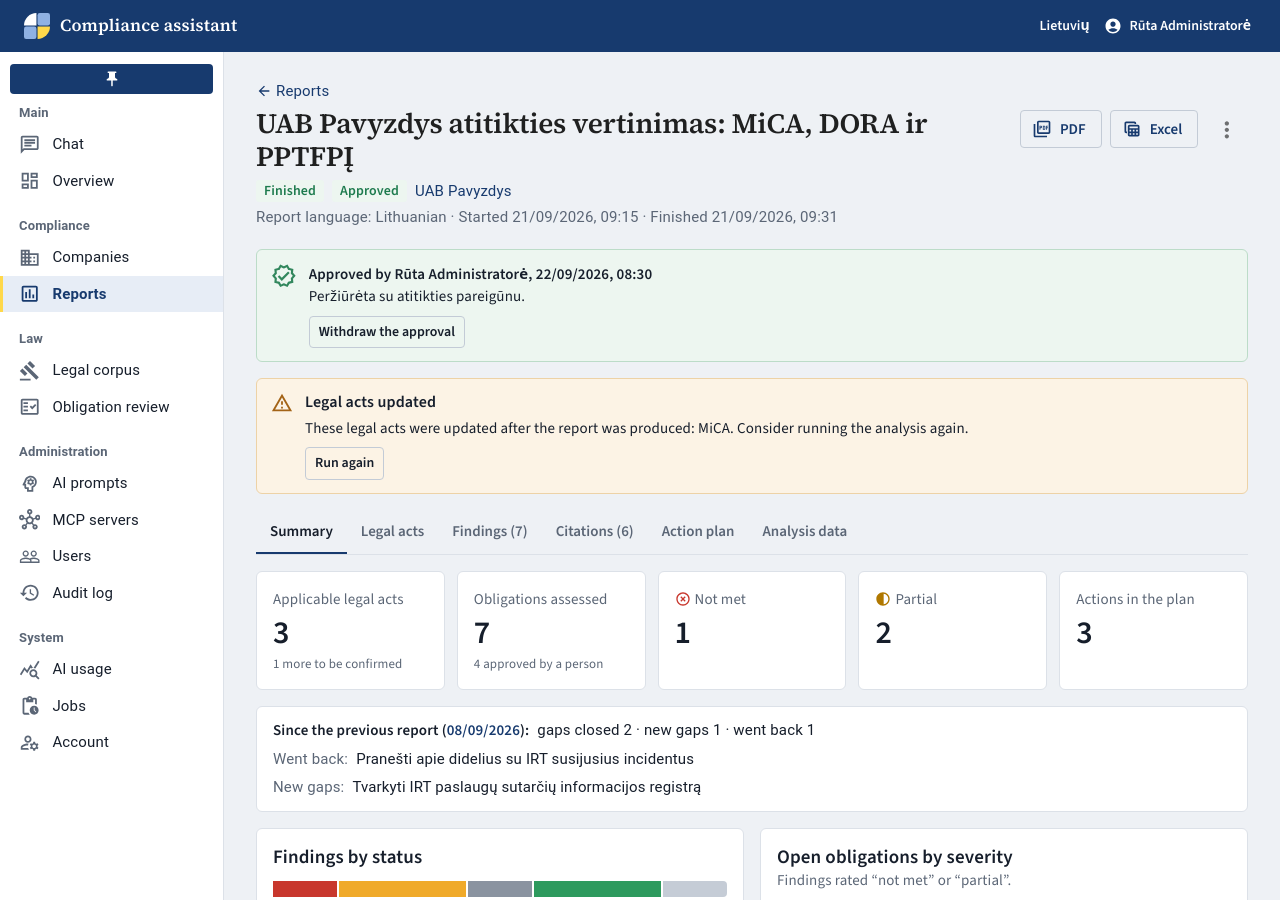
Test case: ReportApproval — an approved report › Cancel keeps the approval and sends nothing
Check: the 1st message is shown, box [256,249,1248,362]
Click the button "Withdraw the approval" at (387,332), box [309,316,465,348]
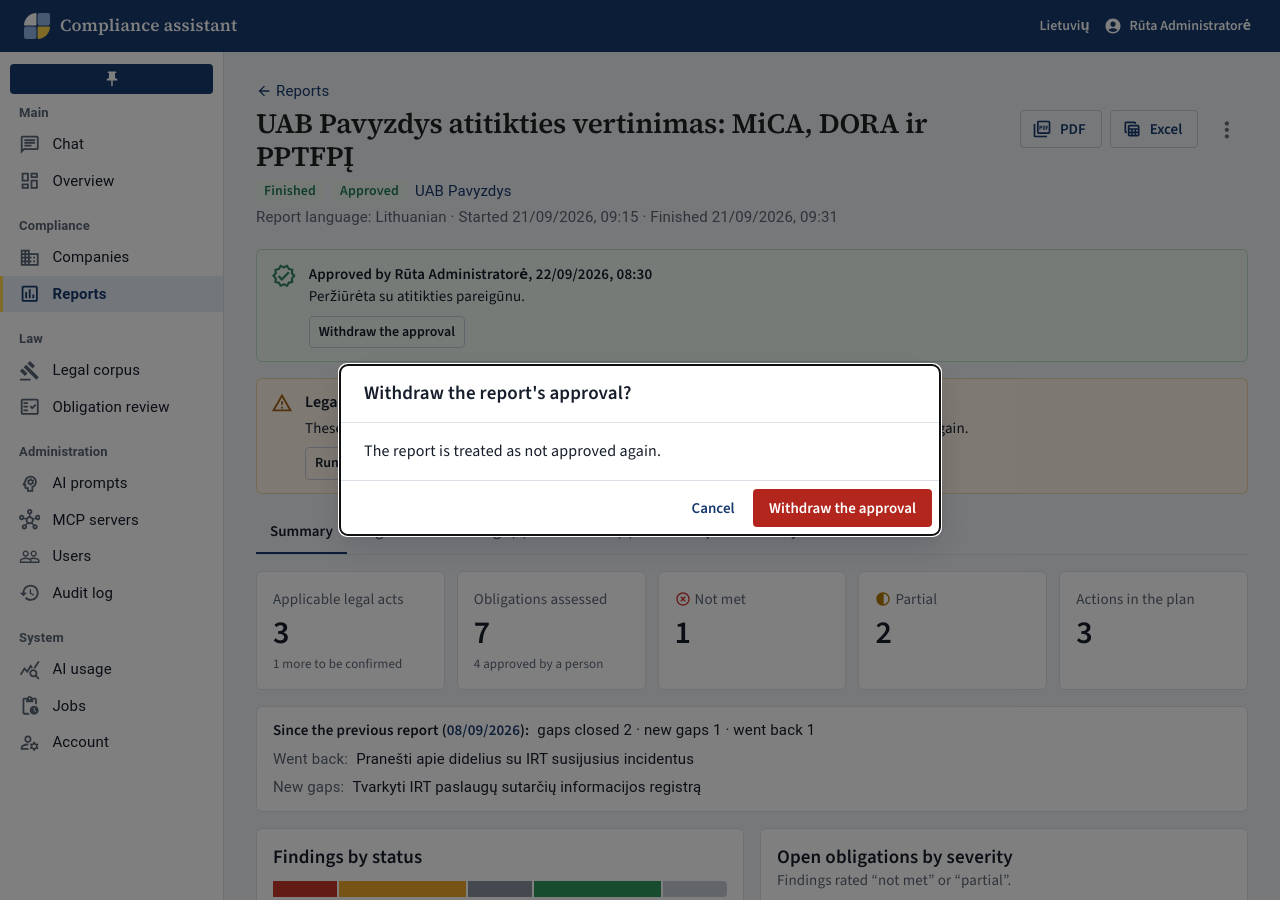
Click the button "Cancel" at (713,508), box [681,489,745,527]
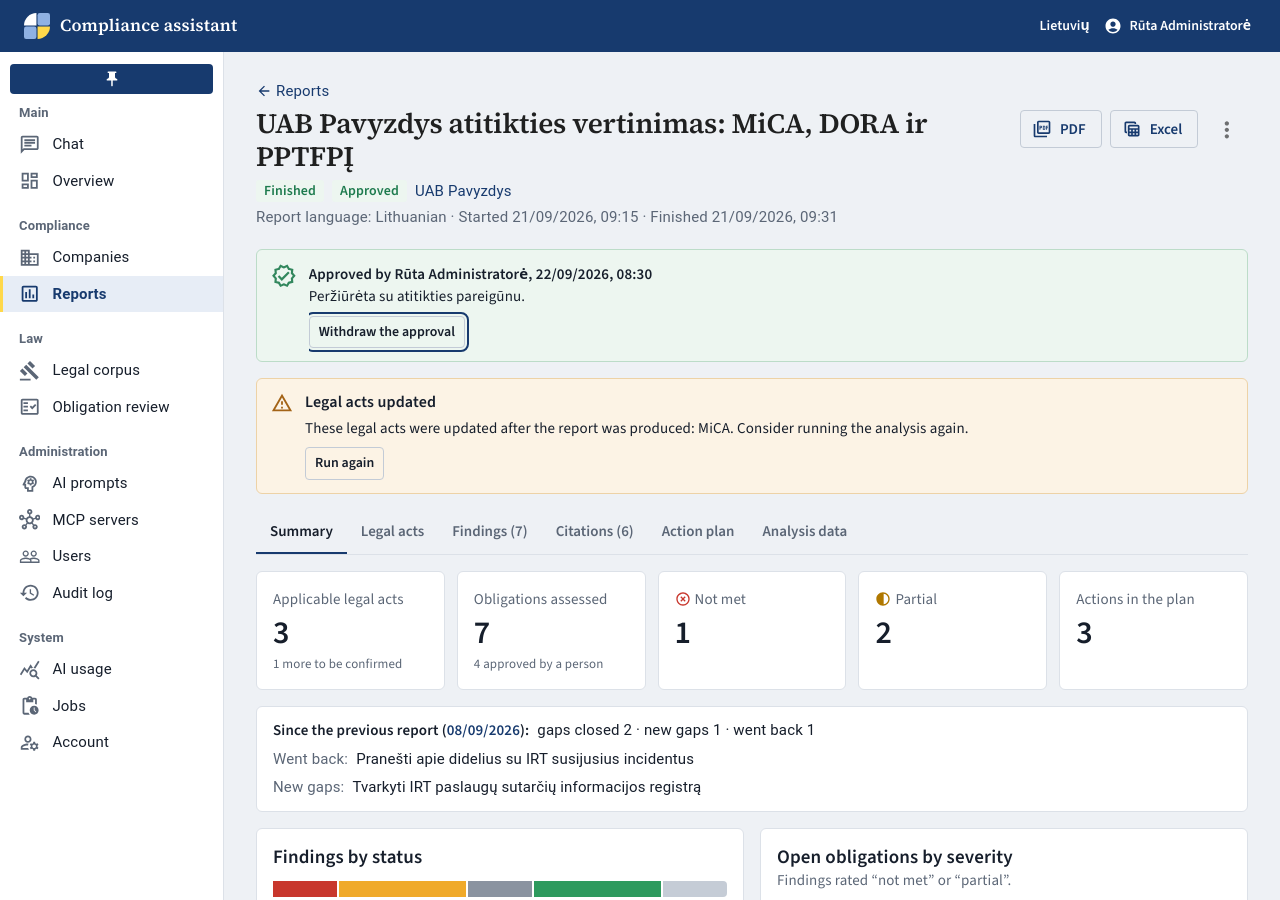
Check: the 1st message is shown, box [256,249,1248,362]
Check: the dialog is gone
